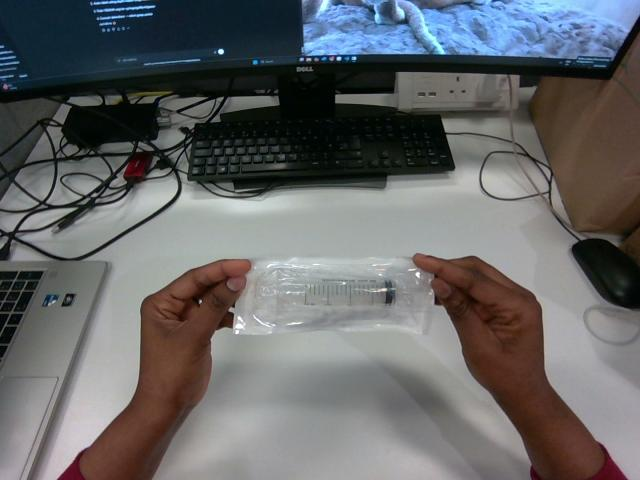syringe: (233, 257, 433, 334)
